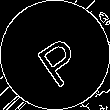P_NW: (25, 24, 85, 86)
